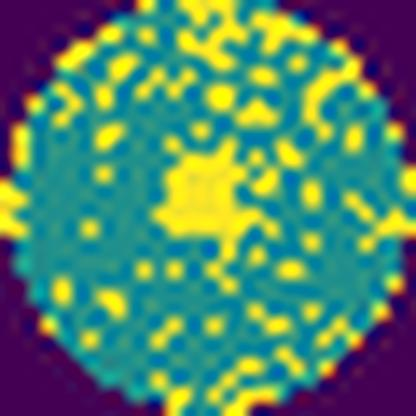Center: (162, 154, 257, 238)
